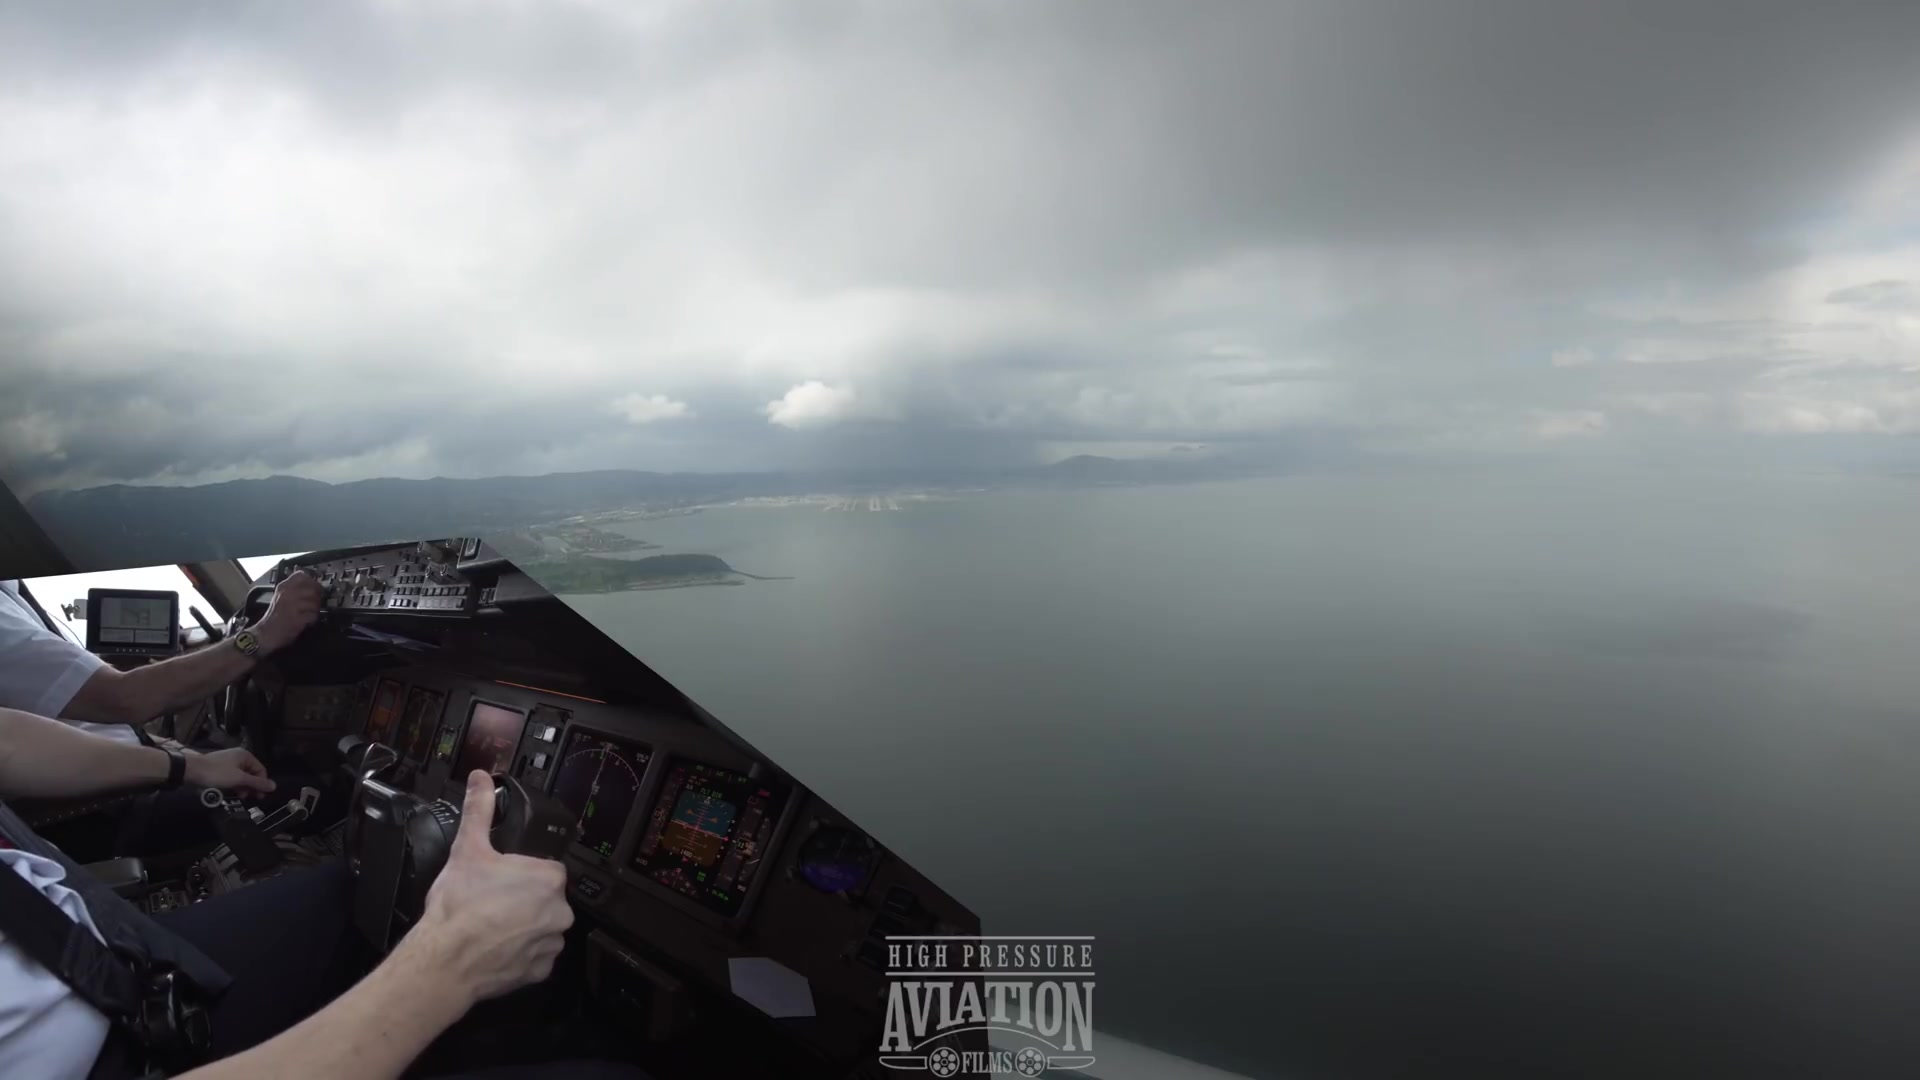runway: (884, 491, 902, 516), (866, 492, 882, 514)
